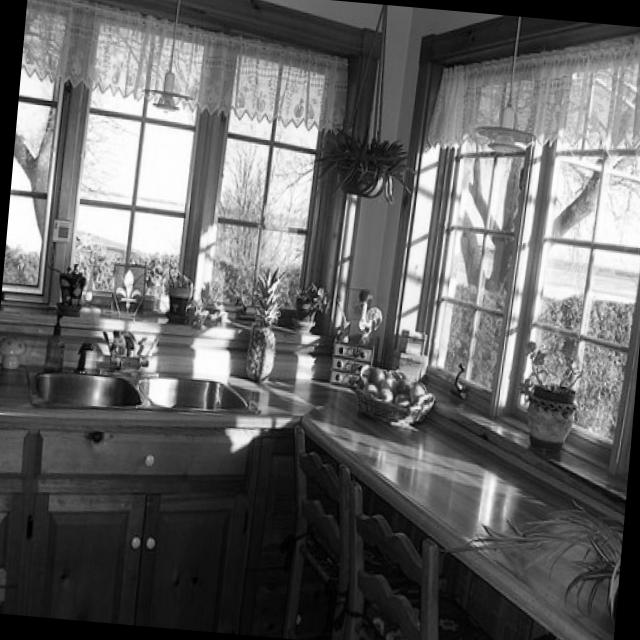2001: (433, 41, 640, 453), (62, 3, 211, 308), (205, 36, 332, 319)
cabinets: (0, 425, 259, 629)
chairs desk: (281, 421, 442, 640)
curtains: (22, 0, 349, 136), (427, 34, 640, 153)
fruit bowl: (355, 365, 434, 425)
kitchen cupboard: (0, 360, 622, 640)
kitchen table: (27, 366, 155, 411), (137, 376, 256, 410)
lamp crop: (139, 0, 196, 110)
pineapple plant: (243, 267, 279, 380)
vase -X: (527, 383, 576, 448)
